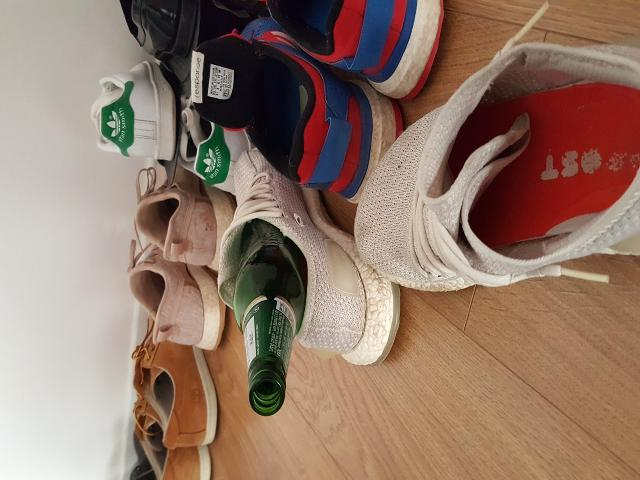beer: (235, 219, 306, 416)
